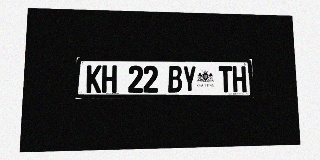2: (128, 65, 143, 93), (143, 65, 158, 93)
B: (168, 66, 182, 92)
H: (102, 65, 117, 93), (232, 66, 247, 92)
K: (86, 65, 102, 93)
T: (218, 66, 233, 92)
Y: (182, 66, 197, 92)
